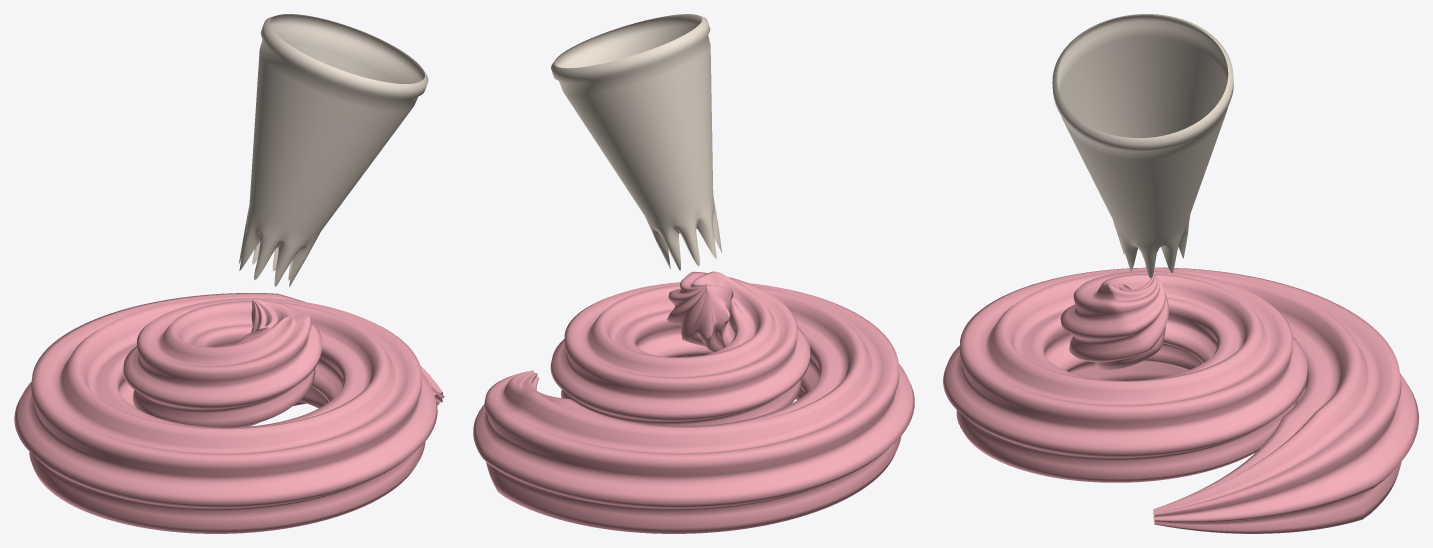
The model's file is piping.glb.
3 views of the same model, side by side, from view 1: azimuth 30°, elevation 25°; view 2: azimuth 150°, elevation 25°; view 3: azimuth 270°, elevation 25° (orthographic). The views are drawn at different scales.
Parts seen in each view (by area): view 1: One continuous piped rosette, Open star pastry nozzle; view 2: One continuous piped rosette, Open star pastry nozzle; view 3: One continuous piped rosette, Open star pastry nozzle.
Part boxes in pixels (x1=…): One continuous piped rosette: x1=14, y1=293, x2=444, y2=533; Open star pastry nozzle: x1=238, y1=14, x2=428, y2=286; One continuous piped rosette: x1=473, y1=271, x2=914, y2=533; Open star pastry nozzle: x1=551, y1=14, x2=721, y2=270; One continuous piped rosette: x1=943, y1=267, x2=1418, y2=533; Open star pastry nozzle: x1=1052, y1=14, x2=1233, y2=278.
Bounding box in the file's own units: 2.38 × 2.62 × 2.39.
